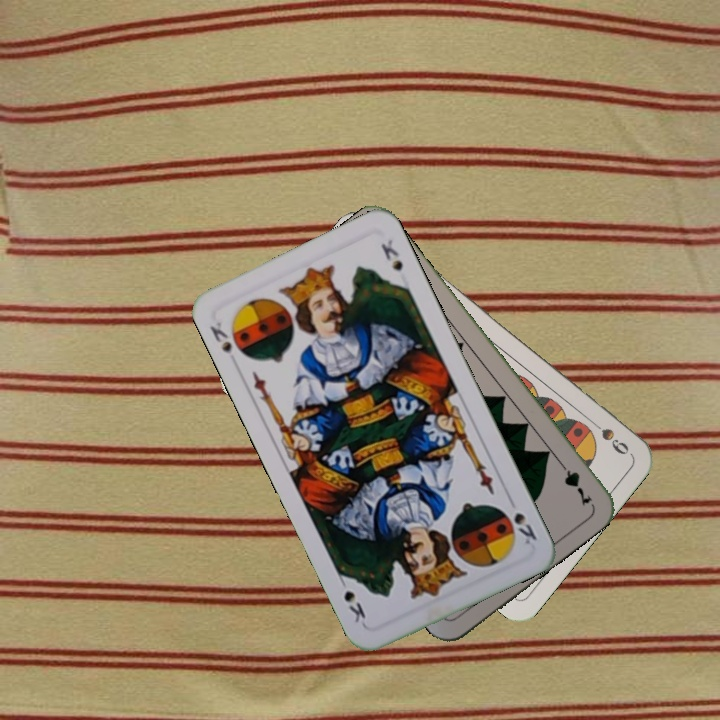G7: (553, 455, 596, 508)
S9: (583, 413, 632, 458)
SK: (509, 508, 540, 548), (205, 317, 234, 356)
